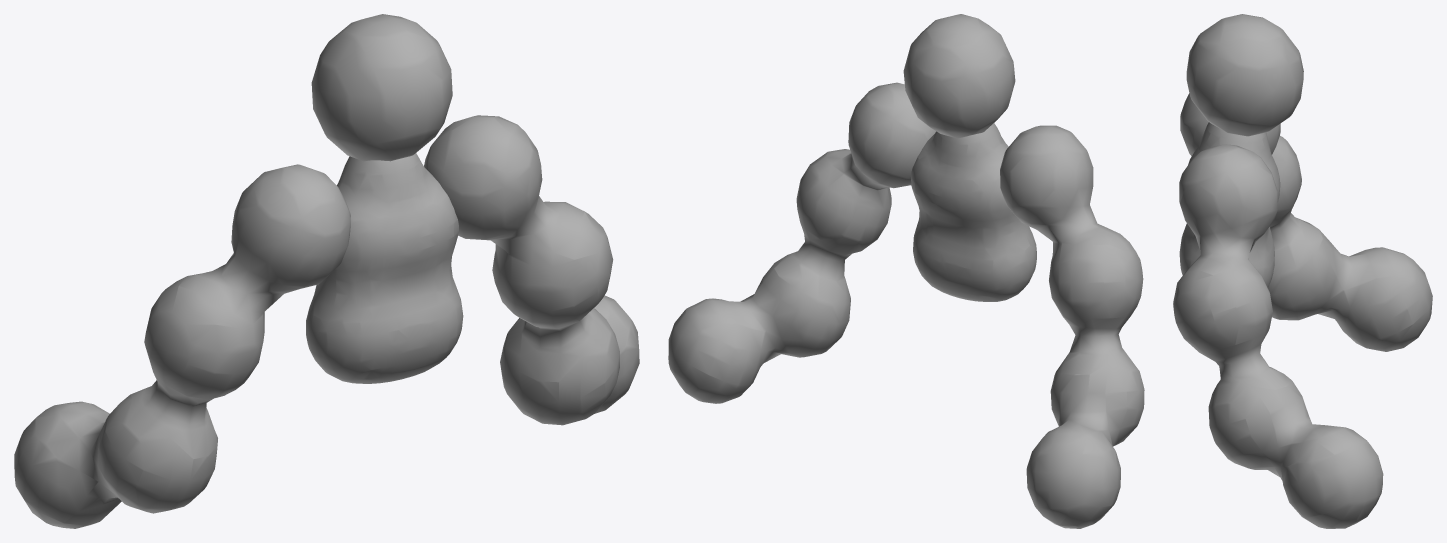
Rendered from boss.obj.
3 views of the same model, side by side, from view 1: azimuth 30°, elevation 25°; view 2: azimuth 150°, elevation 25°; view 3: azimuth 270°, elevation 25° (orthographic). The views are drawn at different scales.
Parts seen in each view (by area): view 1: left.001; view 2: left.001; view 3: left.001.
Boxes of the visible parts, box(x1,y1,x2,y2) form: left.001: box(14, 14, 639, 528); left.001: box(668, 14, 1144, 528); left.001: box(1173, 14, 1432, 528).
Bounding box in the file's own units: 6.3 × 5.3 × 2.97.
Materials: 1 (1 with a texture image).
